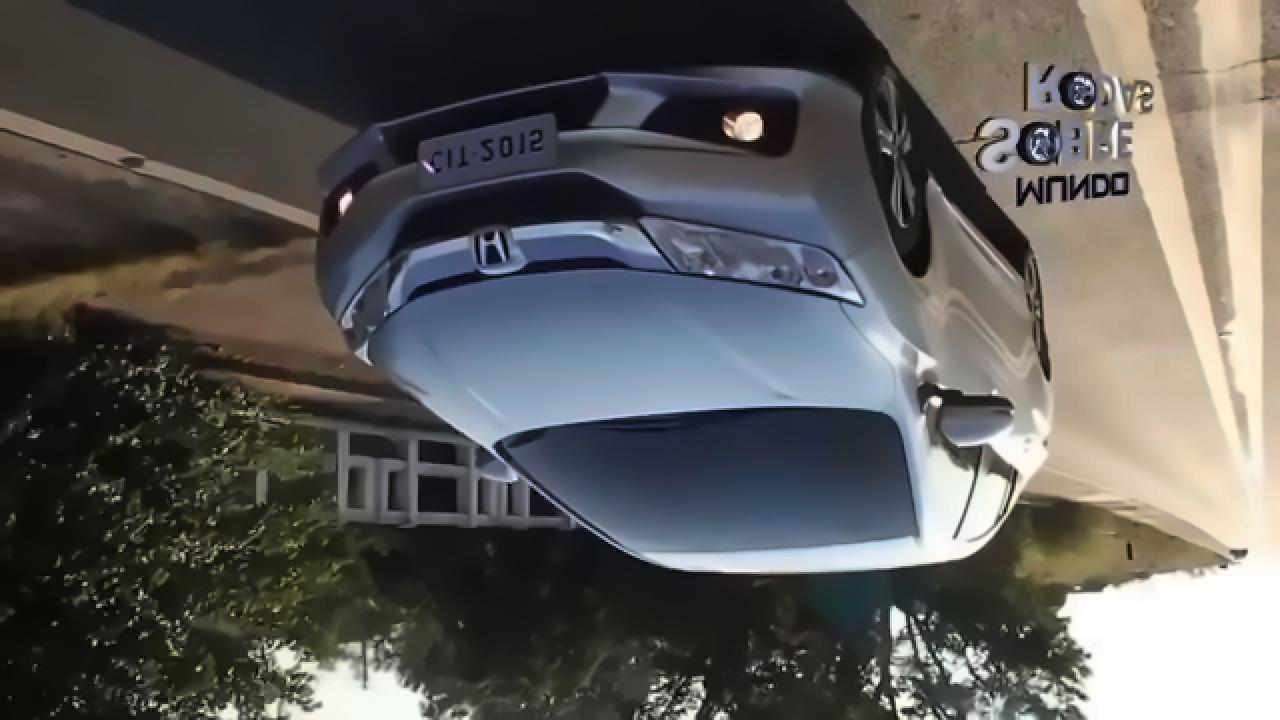Car hood: (362, 260, 903, 456)
Driver-s door - -F-R-: (896, 159, 1009, 580)
Fender - -F-R-: (841, 111, 954, 463)
Front bumper: (300, 57, 876, 325)
Headlight - -L-: (335, 251, 390, 358)
Headlight - -R-: (637, 212, 867, 314)
Side bumper - -R-: (909, 146, 1037, 334)
Side mirror - -R-: (920, 380, 1026, 458)
